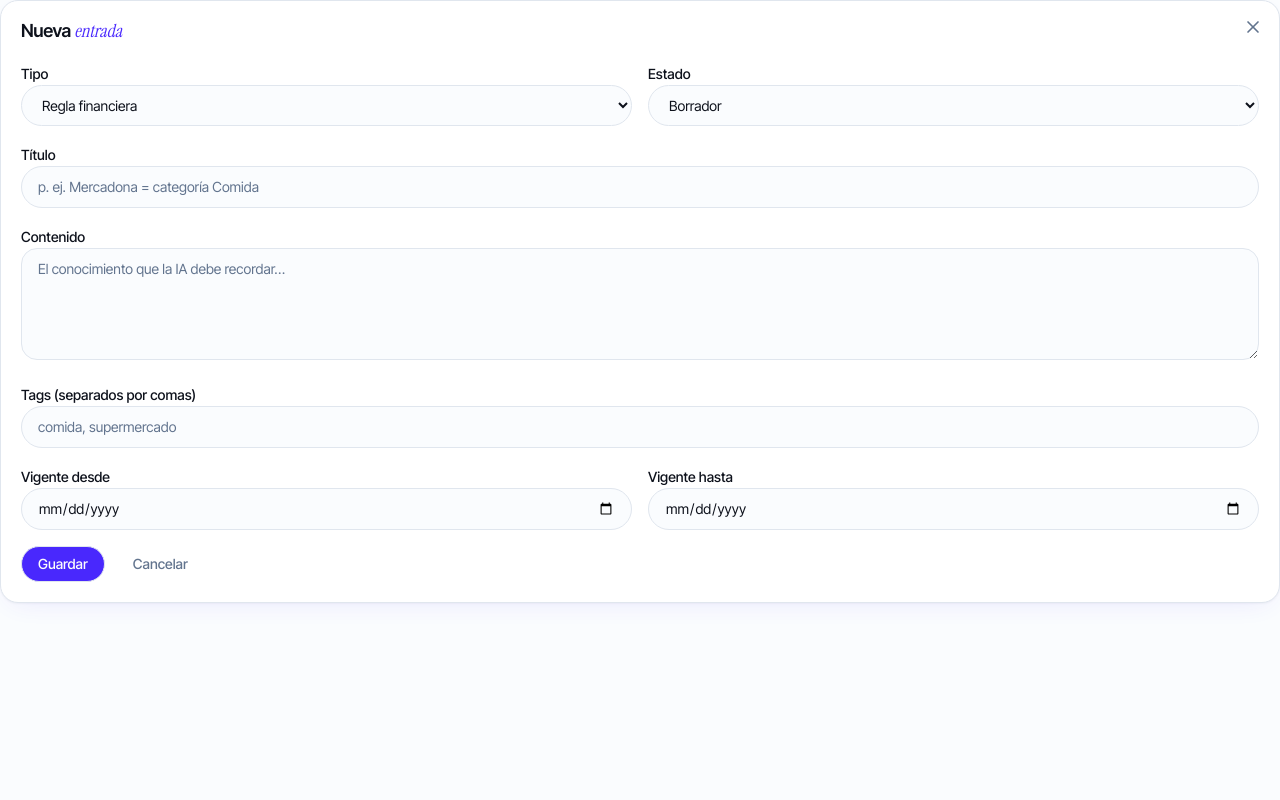
it: EditorEntrada › muestra errores de campo y no cierra
Type "algo" into the text box labelled "Contenido" at point(640, 304), box [21,248,1259,360]
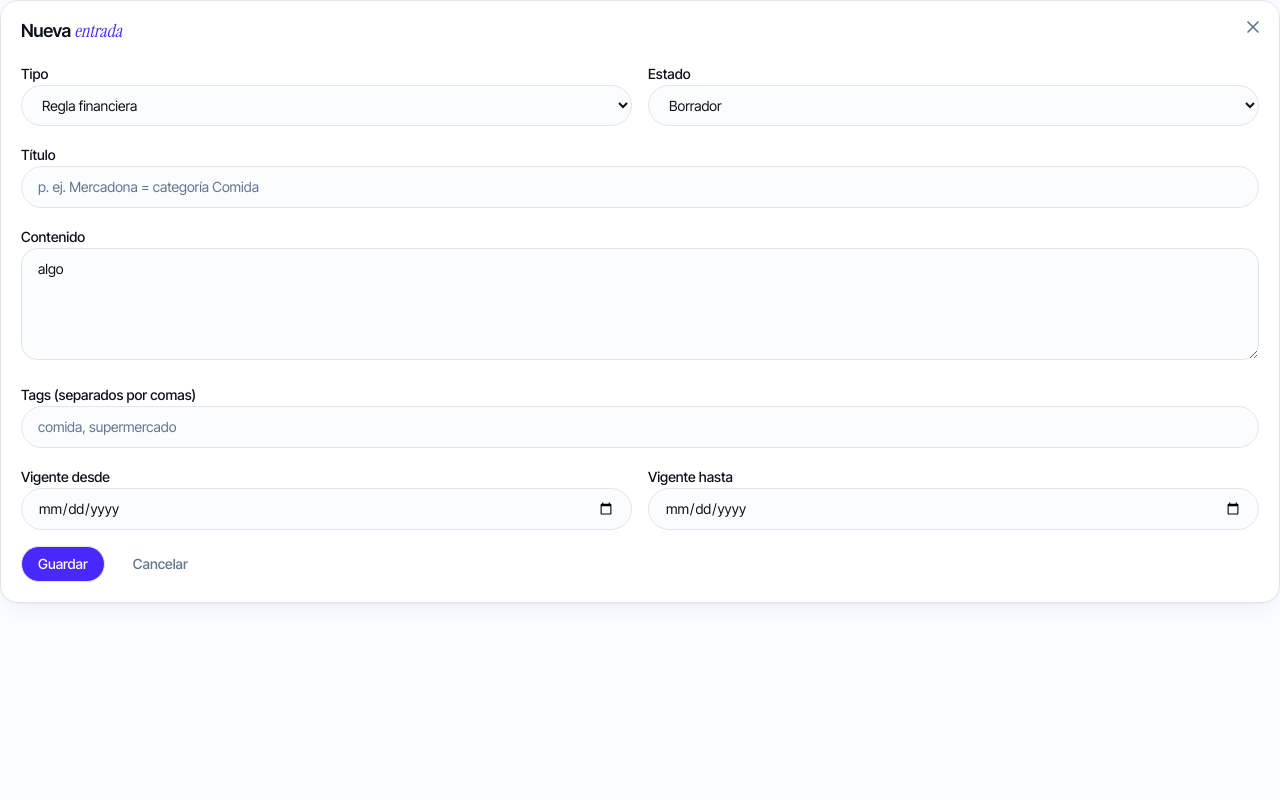
Click the button "Guardar" at point(63, 564), box [21,546,105,582]
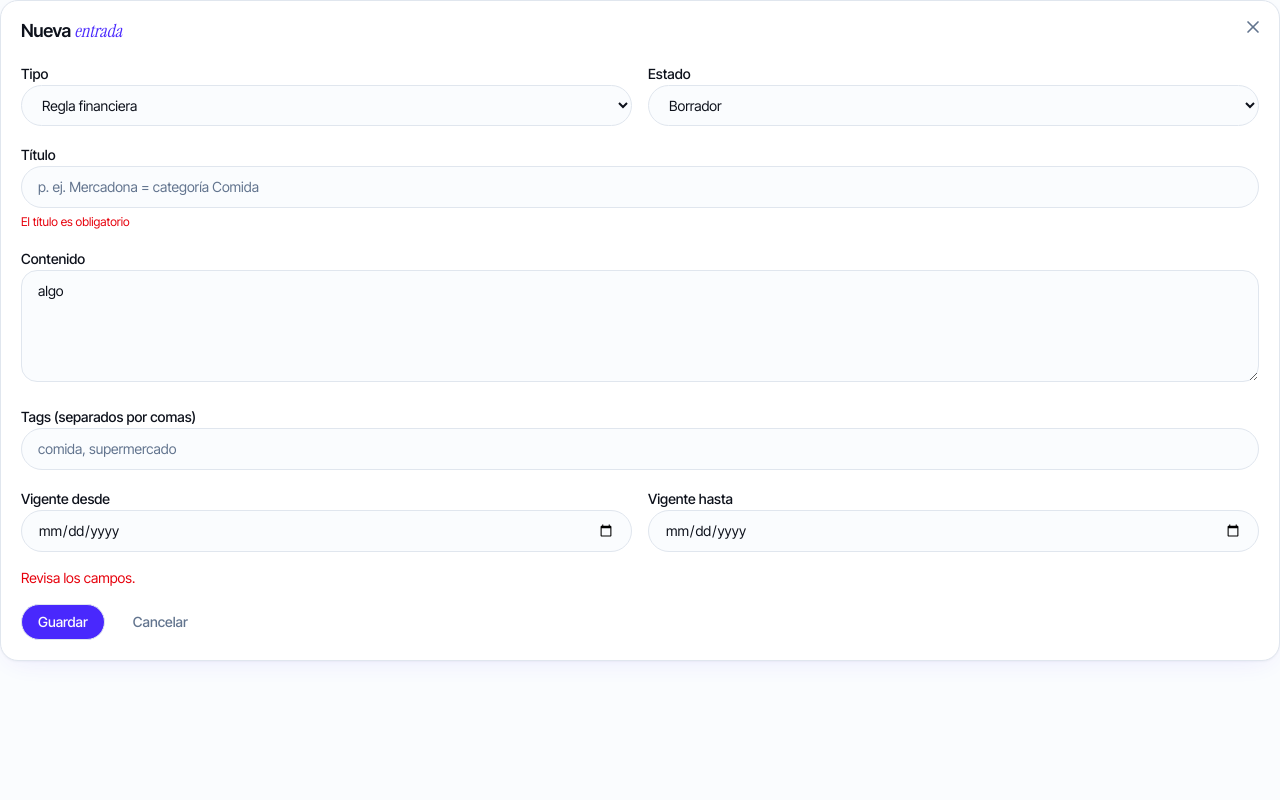
Expected: the text "El título es obligatorio" is shown, [21,214,130,229]
